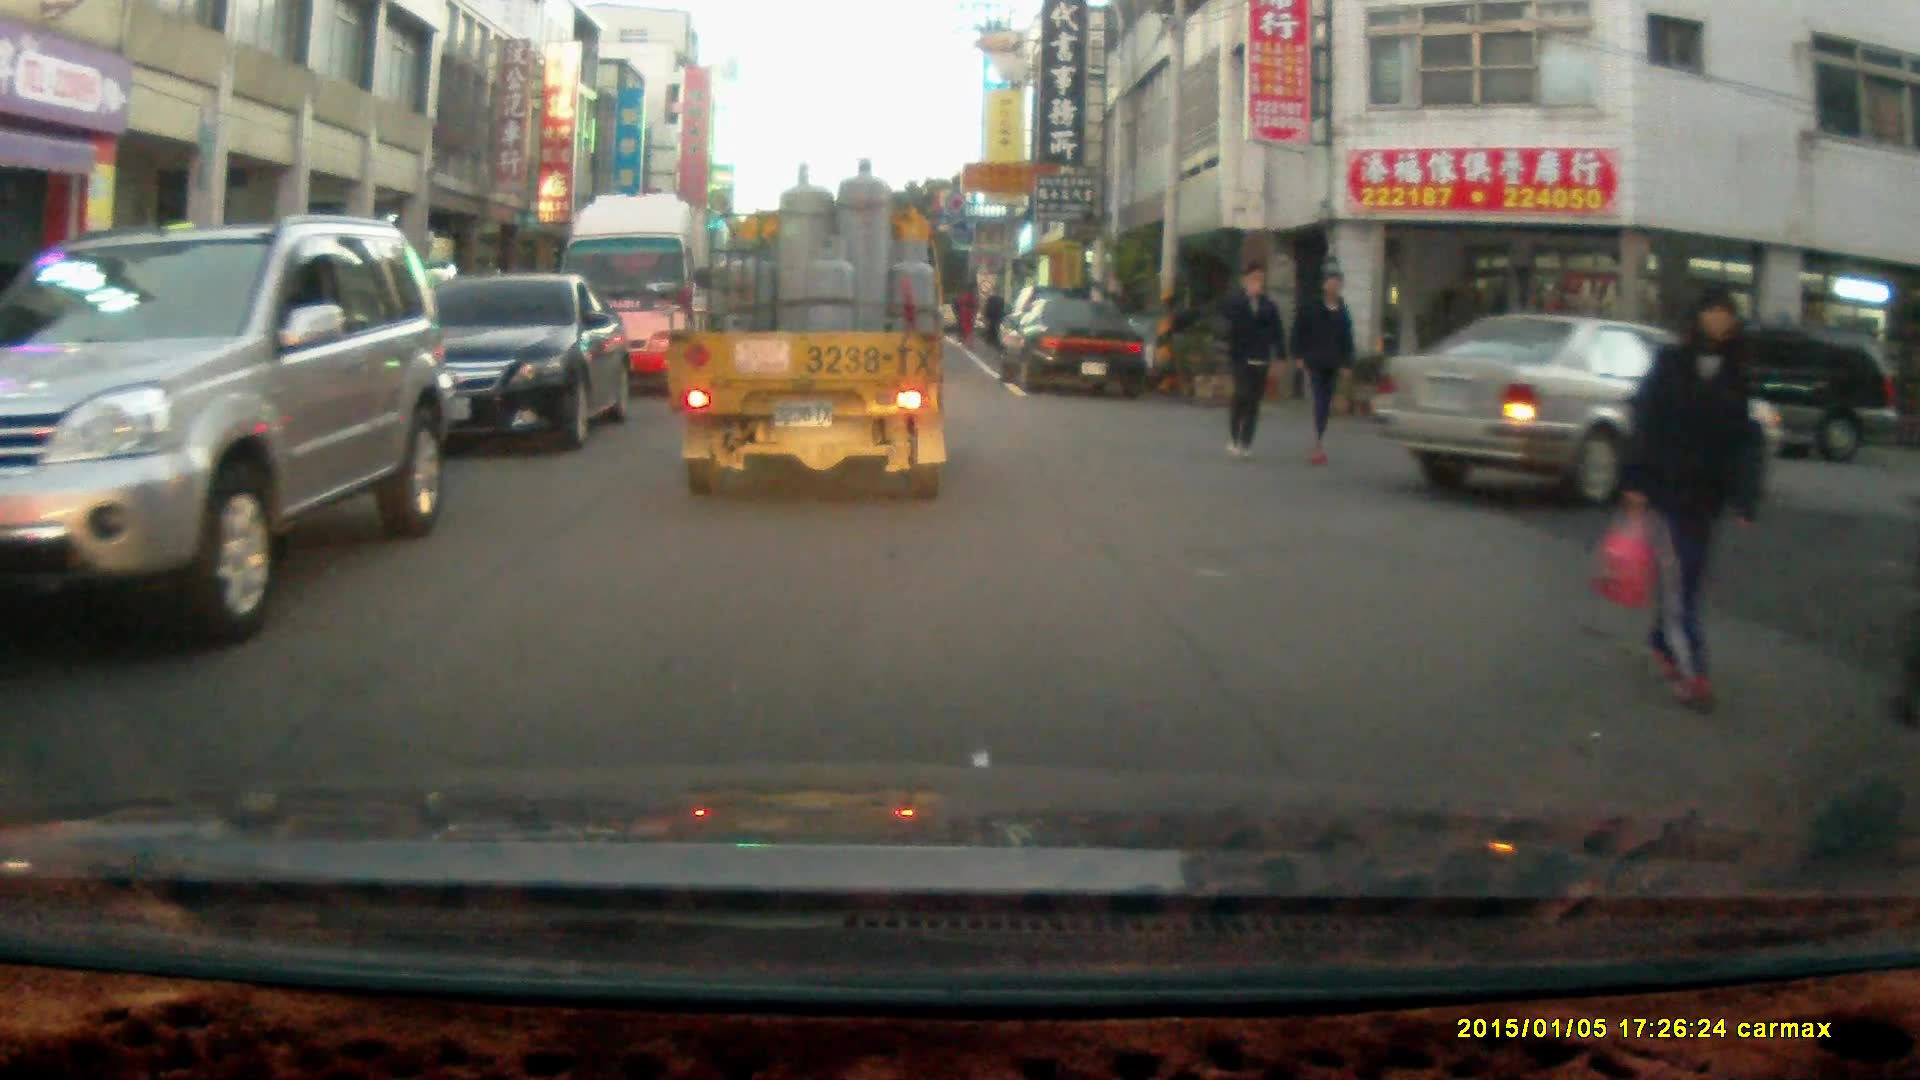pedestrian: (1625, 284, 1762, 704), (1288, 267, 1357, 468), (1218, 257, 1276, 458), (979, 278, 1006, 347), (953, 281, 978, 348)
vehicle: (1, 212, 448, 647), (667, 158, 949, 508), (1375, 311, 1783, 516), (359, 276, 632, 460), (555, 189, 732, 400), (991, 297, 1148, 400)
